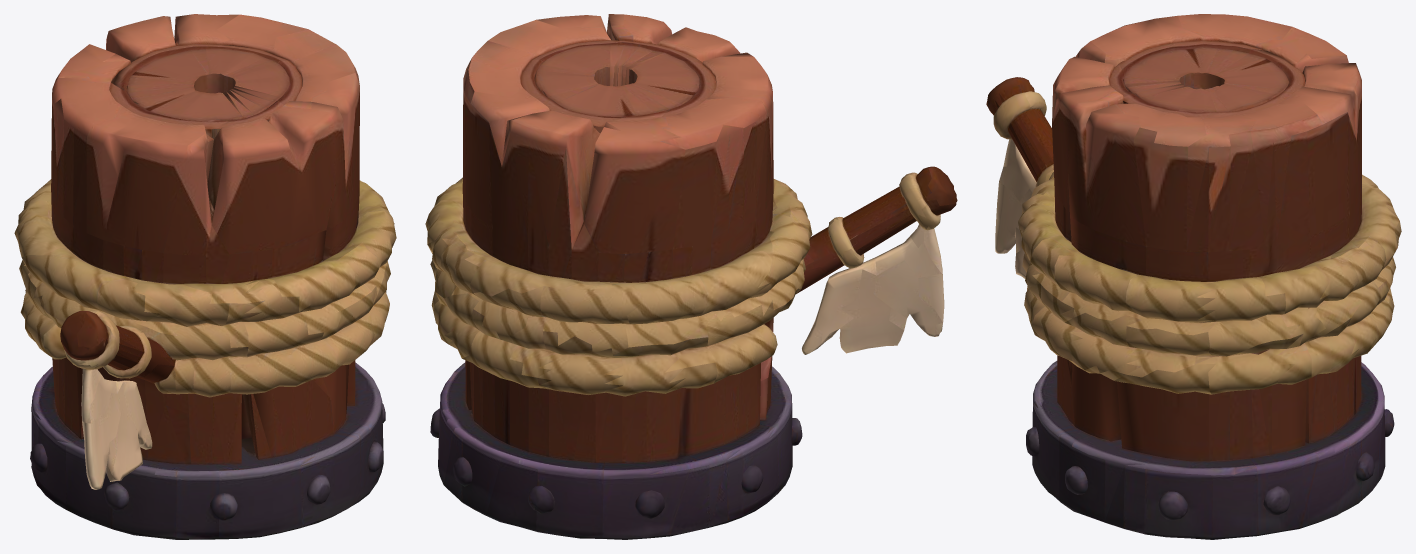
File: la_mastil_roto.glb
3 renders of one model, left to right at view 1: azimuth 30°, elevation 25°; view 2: azimuth 150°, elevation 25°; view 3: azimuth 270°, elevation 25°, orthographic.
Size of the model in its own units: 1 by 0.9473 by 0.9023.
Materials: 1 (1 with a texture image).
